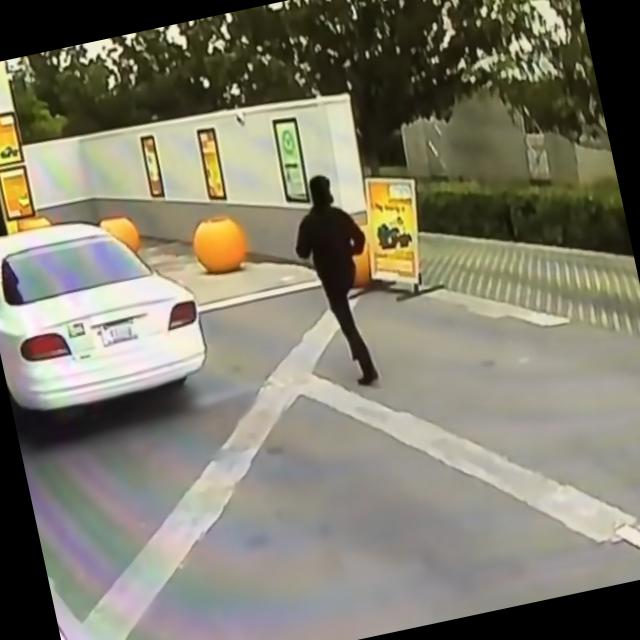person: (280, 166, 395, 394)
